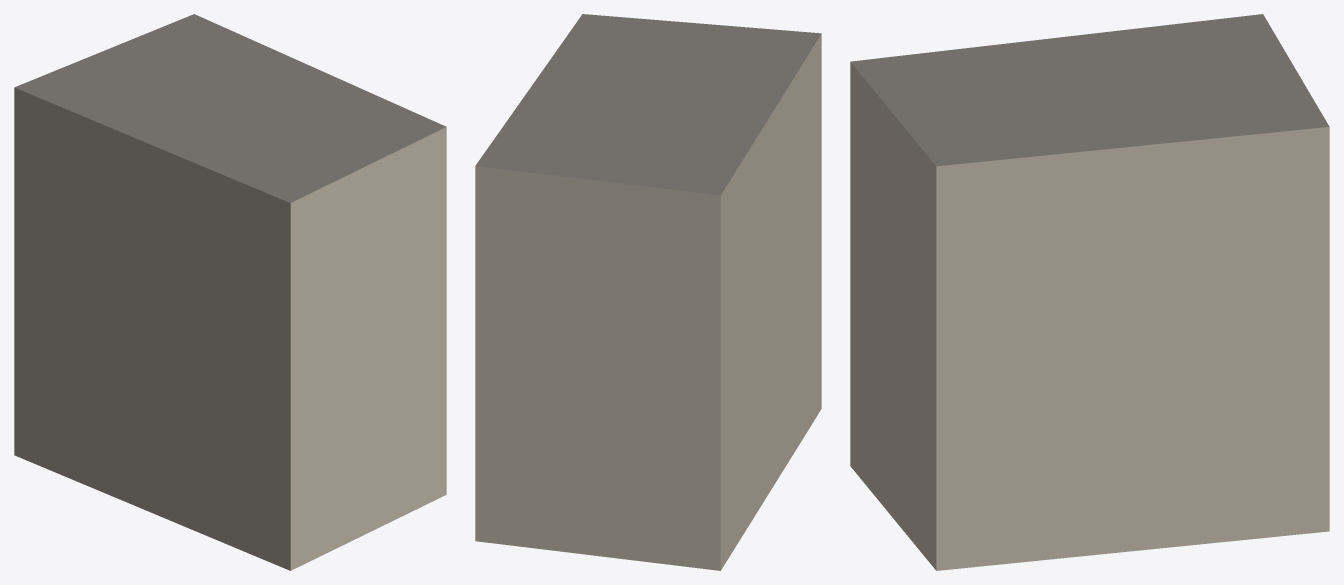
3 views of the same model, side by side, from view 1: azimuth 30°, elevation 25°; view 2: azimuth 150°, elevation 25°; view 3: azimuth 270°, elevation 25° (orthographic). The views are drawn at different scales.
Visible parts, largest first — view 1: HP-w1197248205; view 2: HP-w1197248205; view 3: HP-w1197248205.
Boxes of the visible parts, bbox=[...] form: HP-w1197248205: bbox=[14, 14, 446, 570]; HP-w1197248205: bbox=[475, 14, 821, 570]; HP-w1197248205: bbox=[850, 14, 1329, 570].
Size of the model in its own units: 14.54 by 18 by 19.33.
